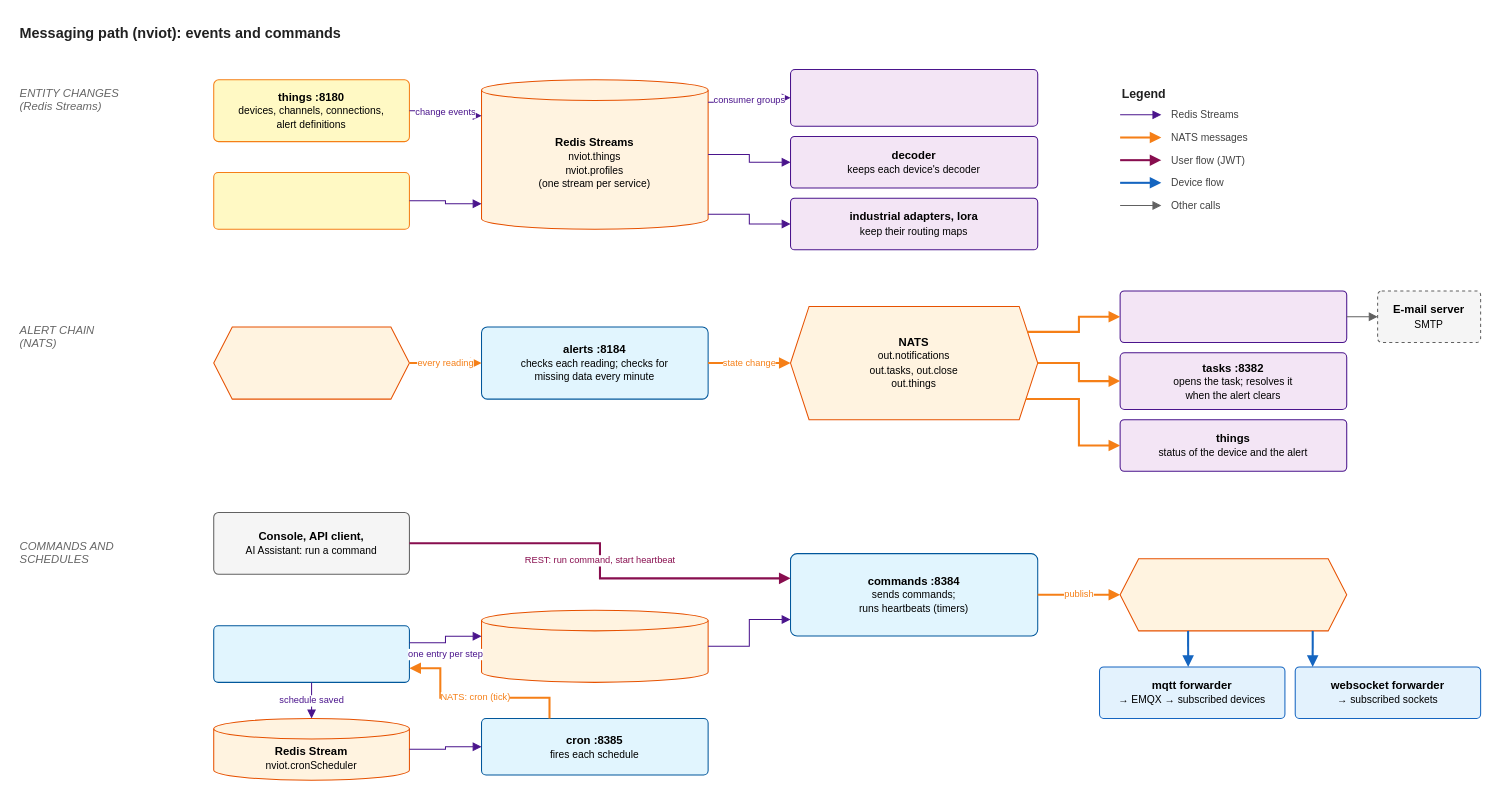
This 1499x798 diagram has some shape labels left out. Each missing label, with the box of its shape:
alerts keeps the alert definitions in a Redis cache: (789, 68, 1038, 126)
NATS channels.<channel>.<subtopic>: (1119, 558, 1347, 631)
NATS channels.>: (213, 326, 409, 399)
notifications :8390 recipients and template per level: (1119, 290, 1347, 342)
profiles :8183 device types and decoders: (213, 171, 409, 229)
Redis Stream nviot.commandScheduler: (480, 609, 708, 682)
scheduler :8387 jobs and steps: (213, 625, 409, 682)
